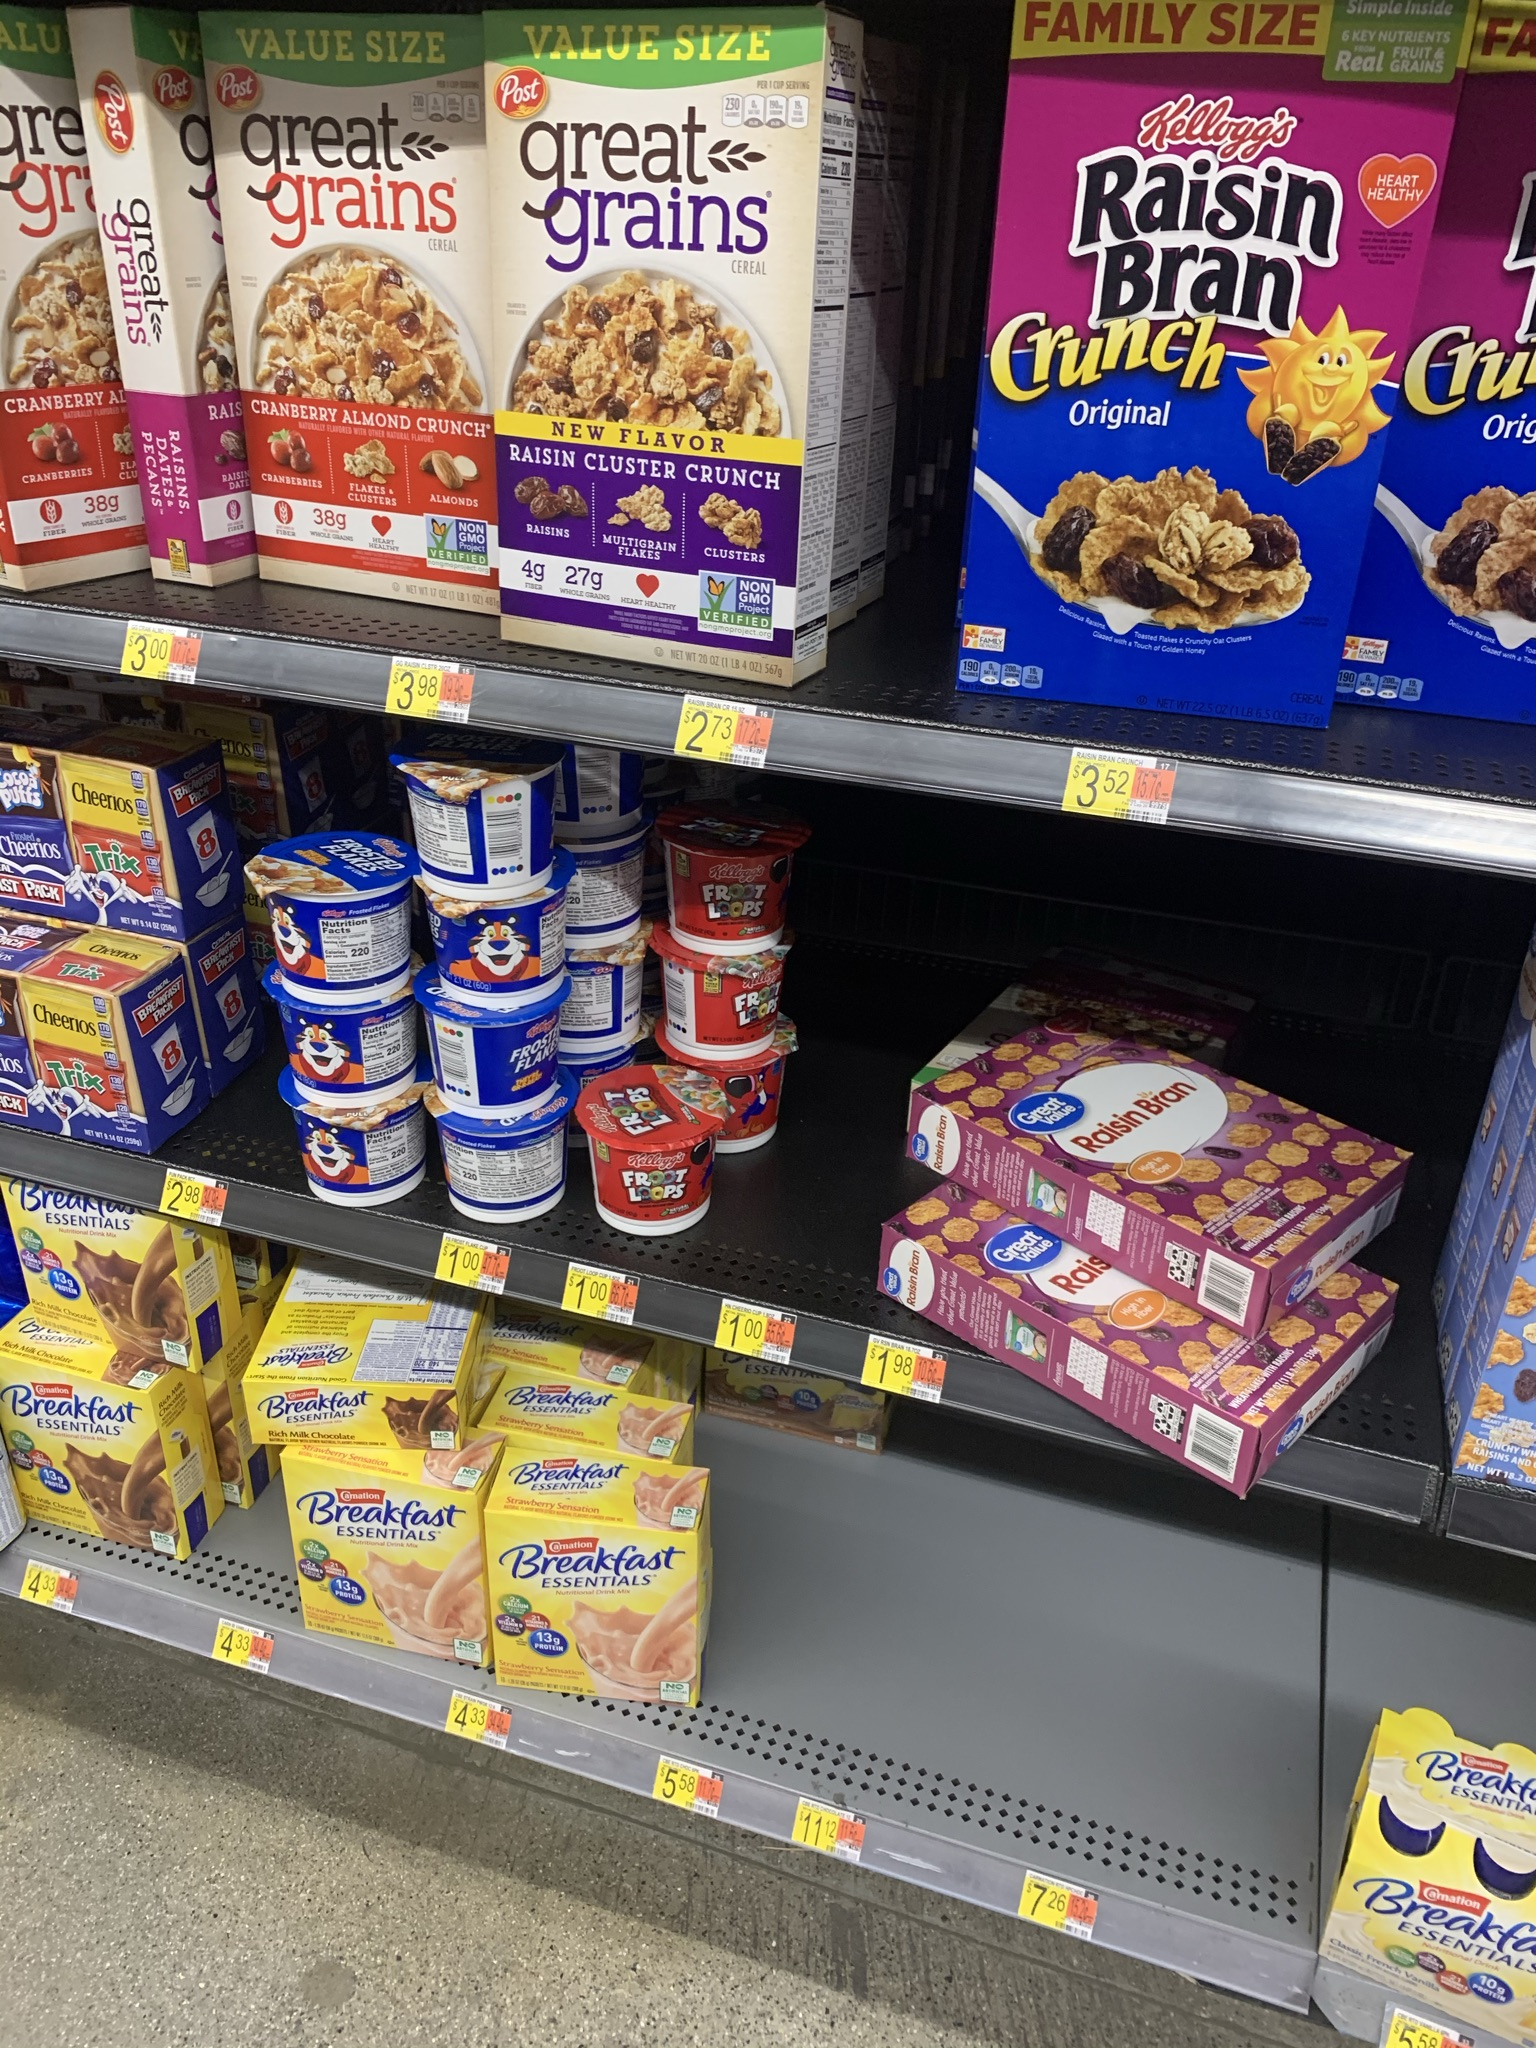Cereal: (490, 1513, 695, 1696)
